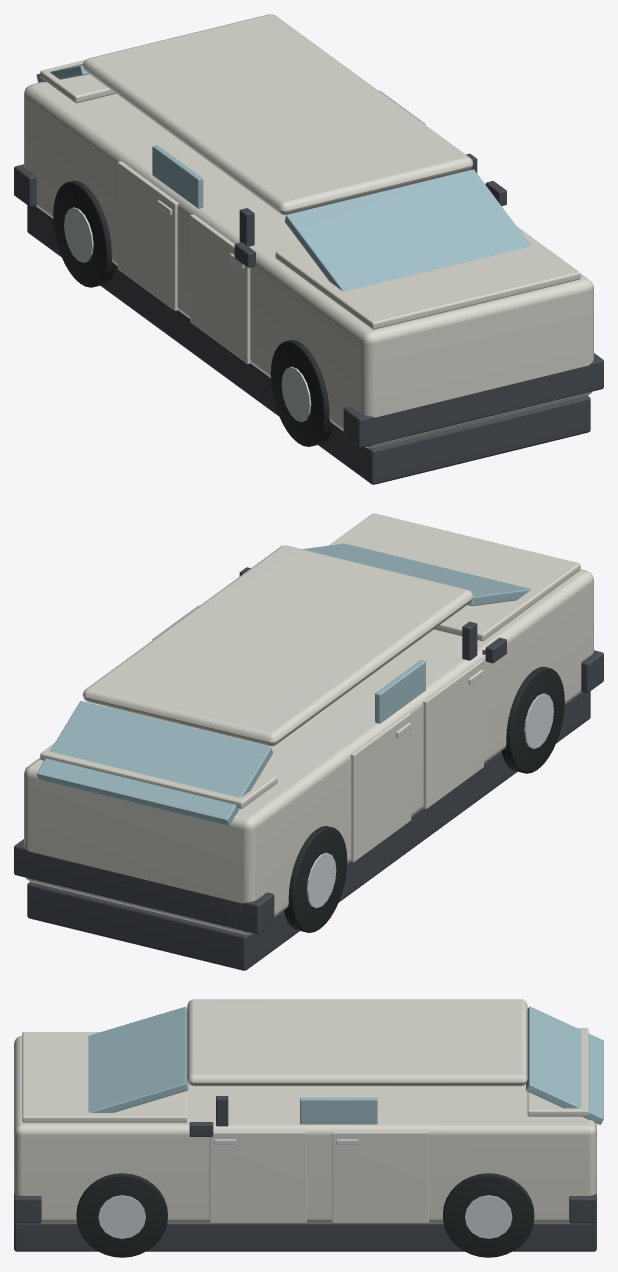
File: car_coupe.glb
3 renders of one model, top to bottom at view 1: azimuth 30°, elevation 25°; view 2: azimuth 150°, elevation 25°; view 3: azimuth 270°, elevation 25°, orthographic. The views are drawn at different scales.
Parts seen in each view (by area): view 1: Tint.004, Windscreen.004, Underbody.004, Front bumper.004, Wheel tyre.016, Wheel tyre.018, Side window.018, Wheel hub.016, Wheel hub.018, Rear bumper.004; view 2: Tint.004, Fastback glass, Underbody.004, Rear bumper.004, Windscreen.004, Wheel tyre.018, Wheel tyre.016, Side window.018, Wheel hub.018, Wheel hub.016, Front bumper.004; view 3: Tint.004, Underbody.004, Windscreen.004, Fastback glass, Wheel tyre.017, Wheel tyre.019, Side window.019, Wheel hub.017, Wheel hub.019, Front bumper.004, Rear bumper.004, Window pillar.025 (+1 smaller).
Part boxes in pixels (bbox=[...]): Tint.004: bbox=[24, 14, 593, 448]; Windscreen.004: bbox=[284, 169, 530, 291]; Underbody.004: bbox=[27, 205, 590, 484]; Front bumper.004: bbox=[343, 353, 603, 447]; Wheel tyre.016: bbox=[270, 340, 333, 446]; Wheel tyre.018: bbox=[53, 180, 116, 287]; Side window.018: bbox=[152, 145, 203, 208]; Wheel hub.016: bbox=[281, 366, 311, 422]; Wheel hub.018: bbox=[64, 207, 93, 262]; Rear bumper.004: bbox=[14, 164, 36, 206]; Tint.004: bbox=[24, 513, 593, 934]; Fastback glass: bbox=[36, 701, 272, 825]; Underbody.004: bbox=[27, 691, 590, 970]; Rear bumper.004: bbox=[14, 839, 274, 933]; Windscreen.004: bbox=[302, 543, 531, 606]; Wheel tyre.018: bbox=[284, 826, 347, 932]; Wheel tyre.016: bbox=[501, 666, 564, 773]; Side window.018: bbox=[375, 660, 425, 723]; Wheel hub.018: bbox=[306, 852, 336, 908]; Wheel hub.016: bbox=[524, 693, 553, 748]; Front bumper.004: bbox=[581, 650, 603, 692]; Tint.004: bbox=[14, 999, 596, 1223]; Underbody.004: bbox=[14, 1222, 596, 1251]; Windscreen.004: bbox=[88, 1006, 188, 1112]; Fastback glass: bbox=[526, 1006, 603, 1124]; Wheel tyre.017: bbox=[76, 1173, 167, 1257]; Wheel tyre.019: bbox=[443, 1173, 534, 1257]; Side window.019: bbox=[300, 1097, 377, 1124]; Wheel hub.017: bbox=[98, 1195, 145, 1238]; Wheel hub.019: bbox=[465, 1195, 512, 1238]; Front bumper.004: bbox=[14, 1193, 41, 1223]; Rear bumper.004: bbox=[569, 1194, 596, 1223]; Window pillar.025: bbox=[216, 1096, 228, 1126].
Size of the model in its own units: 1.82 by 1.37 by 4.25.
